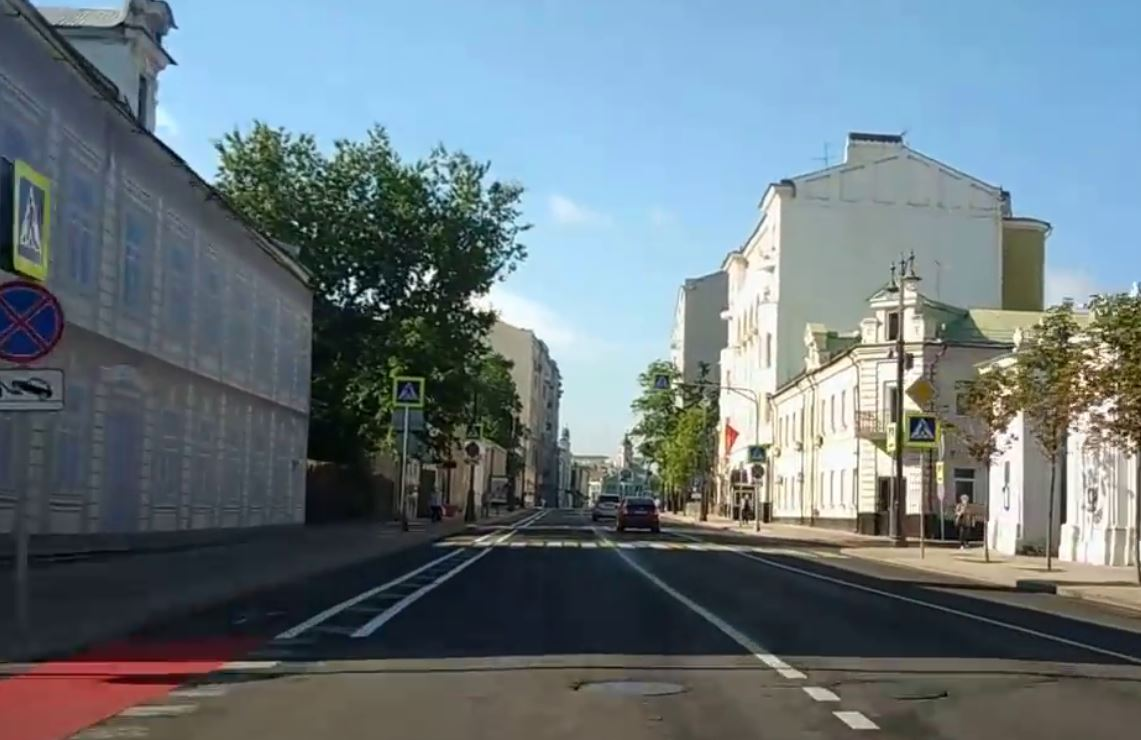Yaya Gecidi: (18, 182, 49, 265), (909, 416, 935, 442), (399, 381, 421, 405)
